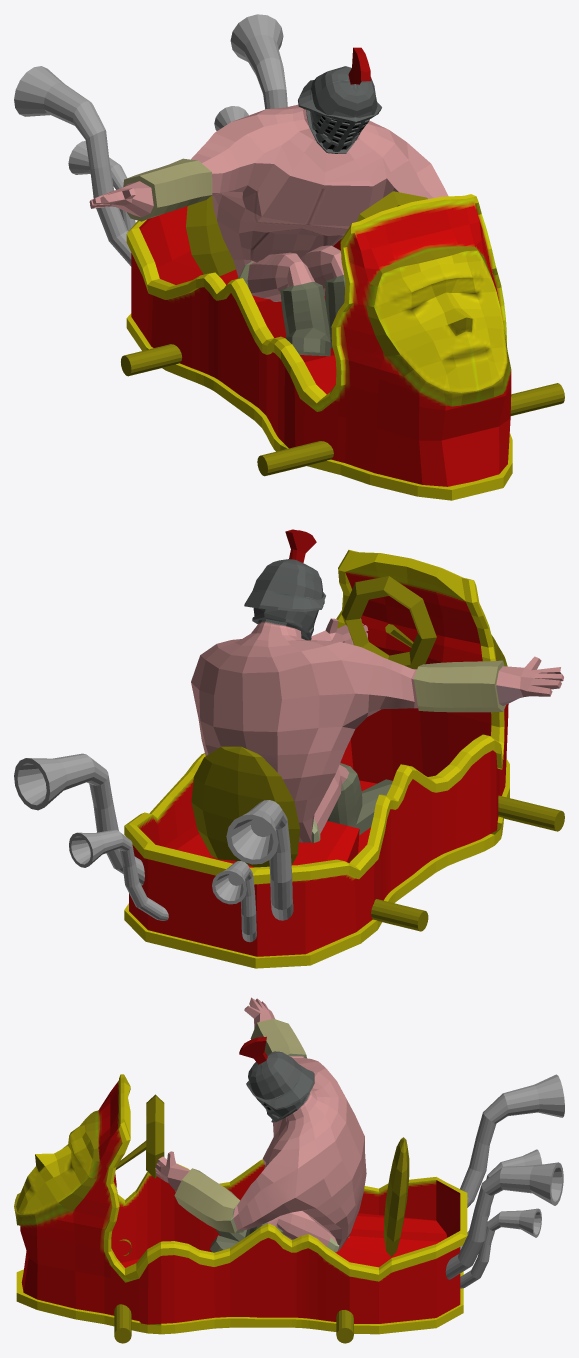
The model's file is gladiVacile_000537.obj.
The picture shows the model from 3 angles, top to bottom: view 1: azimuth 30°, elevation 25°; view 2: azimuth 150°, elevation 25°; view 3: azimuth 270°, elevation 25°; orthographic projection. The views are drawn at different scales.
Parts seen in each view (by area): view 1: GladiChasis_GladiChasisH, Gadiador_Gladiador_H.001, GladiTubos_GladiTubosH, GladiVolante_GladiVolanteH; view 2: GladiChasis_GladiChasisH, Gadiador_Gladiador_H.001, GladiTubos_GladiTubosH, GladiVolante_GladiVolanteH; view 3: GladiChasis_GladiChasisH, Gadiador_Gladiador_H.001, GladiTubos_GladiTubosH, GladiVolante_GladiVolanteH.
Part boxes in pixels (left/top/right/bottom): GladiChasis_GladiChasisH: left=126, top=194, right=512, bottom=500; Gadiador_Gladiador_H.001: left=89, top=47, right=448, bottom=356; GladiTubos_GladiTubosH: left=14, top=14, right=287, bottom=266; GladiVolante_GladiVolanteH: left=121, top=191, right=564, bottom=476; GladiChasis_GladiChasisH: left=124, top=550, right=509, bottom=968; Gadiador_Gladiador_H.001: left=191, top=529, right=563, bottom=842; GladiTubos_GladiTubosH: left=14, top=753, right=293, bottom=942; GladiVolante_GladiVolanteH: left=191, top=576, right=564, bottom=931; GladiChasis_GladiChasisH: left=14, top=1074, right=467, bottom=1334; Gadiador_Gladiador_H.001: left=155, top=997, right=366, bottom=1252; GladiTubos_GladiTubosH: left=445, top=1074, right=564, bottom=1288; GladiVolante_GladiVolanteH: left=114, top=1094, right=409, bottom=1343.
Bounding box in the file's own units: 7.05 × 5.74 × 10.78.
